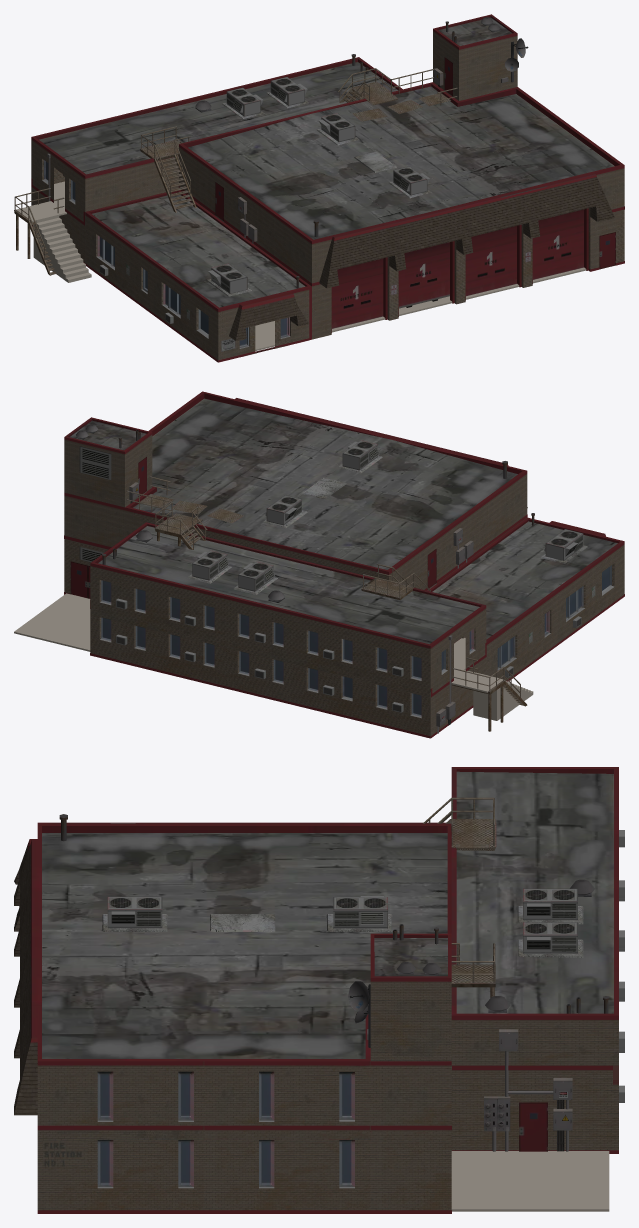
Rendered from fire-station.zfix-v14.lod0.glb.
The picture shows the model from 3 angles, top to bottom: view 1: azimuth 30°, elevation 25°; view 2: azimuth 150°, elevation 25°; view 3: azimuth 270°, elevation 25°; orthographic projection. The views are drawn at different scales.
Parts seen in each view (by area): view 1: LOD0_Material #65_0, Walkable floors and stairs; view 2: LOD0_Material #65_0, Walkable floors and stairs; view 3: LOD0_Material #65_0, Walkable floors and stairs.
Part boxes in pixels (left/top/right/bottom): LOD0_Material #65_0: left=14, top=14, right=624, bottom=362; Walkable floors and stairs: left=16, top=181, right=586, bottom=350; LOD0_Material #65_0: left=64, top=391, right=624, bottom=738; Walkable floors and stairs: left=14, top=593, right=533, bottom=720; LOD0_Material #65_0: left=14, top=767, right=624, bottom=1213; Walkable floors and stairs: left=451, top=1151, right=609, bottom=1211.
Bounding box in the file's own units: 31.27 × 10.57 × 23.61.
Materials: 2 (1 with a texture image).
